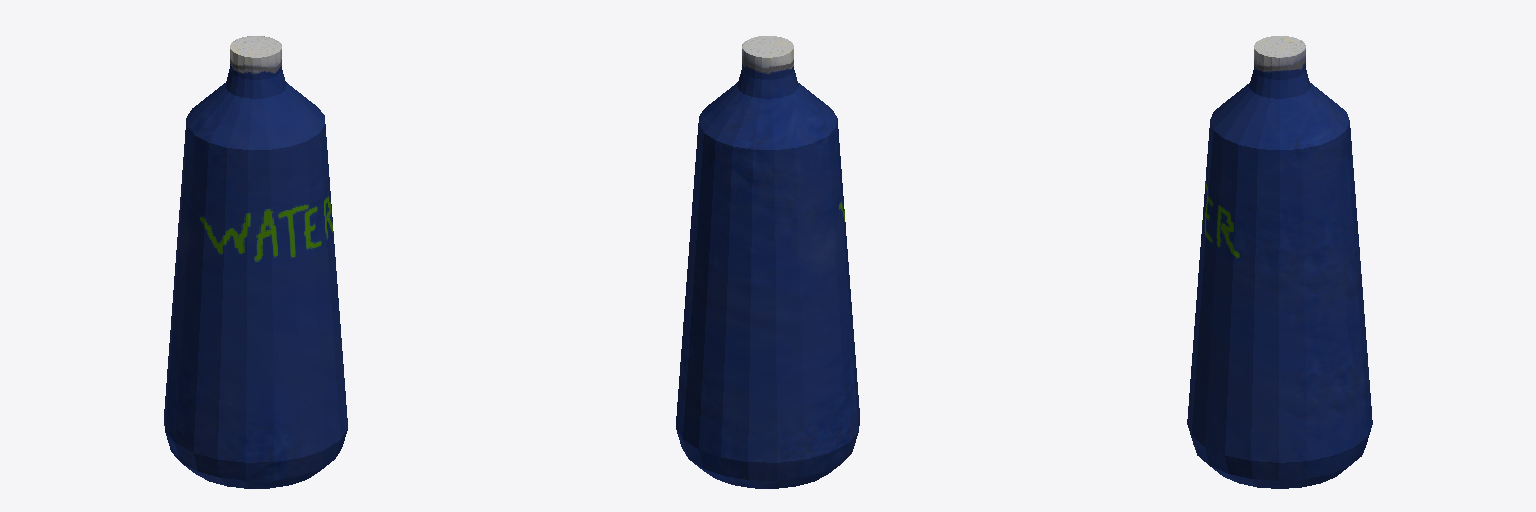
The picture shows the model from 3 angles: view 1: azimuth 30°, elevation 25°; view 2: azimuth 150°, elevation 25°; view 3: azimuth 270°, elevation 25°; orthographic projection.
Visible parts, largest first — view 1: Bottle; view 2: Bottle; view 3: Bottle.
Boxes of the visible parts, x1,y1,x2,y2 form: Bottle: [164, 36, 347, 488]; Bottle: [676, 36, 859, 488]; Bottle: [1187, 36, 1372, 488].
Size of the model in its own units: 0.2255 by 0.5608 by 0.2255.
1 materials, 1 textured.